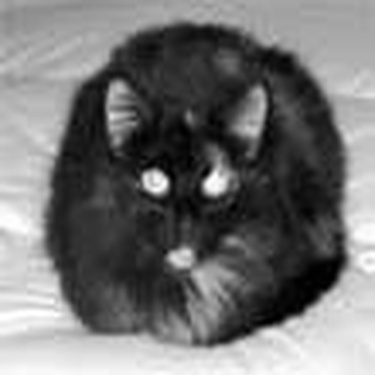cat: (41, 21, 345, 346)
